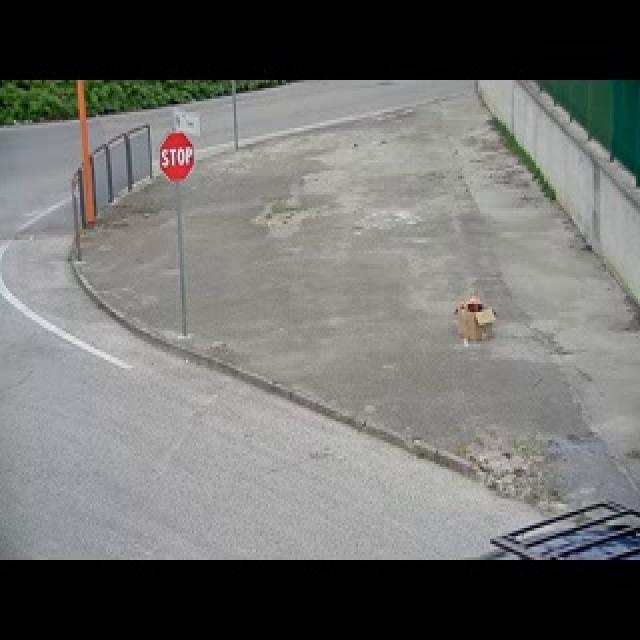Fire: (456, 284, 498, 340)
